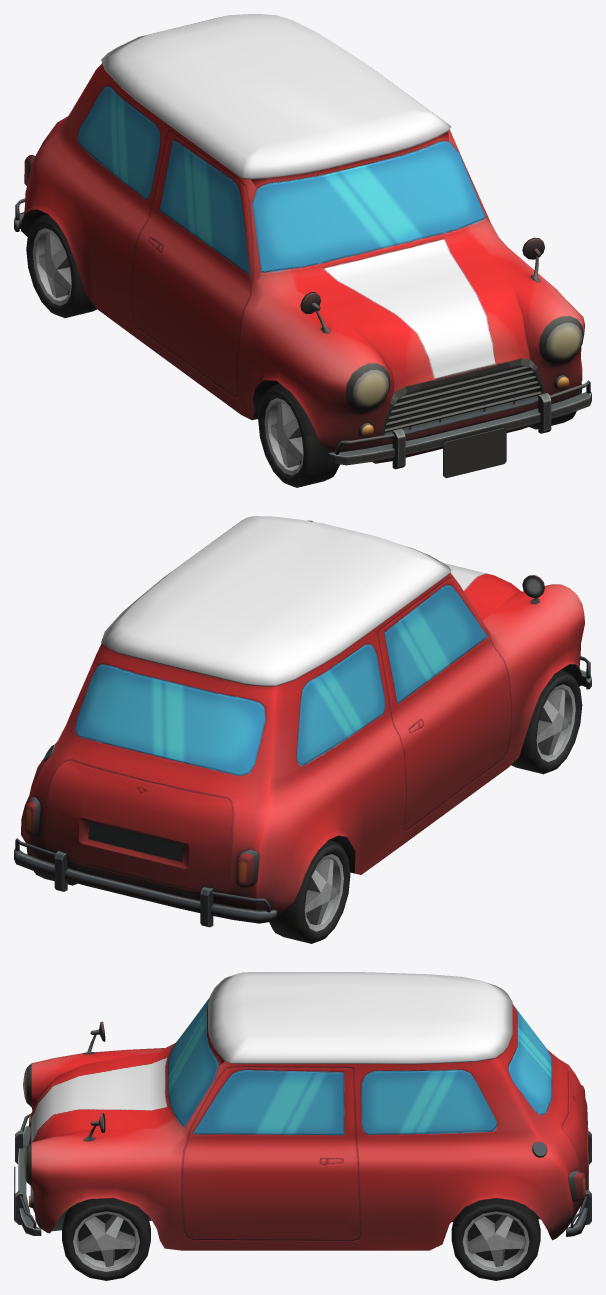
The model's file is Mini.fbx.
3 renders of one model, top to bottom at view 1: azimuth 30°, elevation 25°; view 2: azimuth 150°, elevation 25°; view 3: azimuth 270°, elevation 25°, orthographic. The views are drawn at different scales.
Visible parts, largest first — view 1: Body, FL_Wheel, RL_Wheel; view 2: Body, RL_Wheel, FL_Wheel; view 3: Body, FR_Wheel, RR_Wheel.
Boxes of the visible parts, <box> form: Body: <box>14,14,591,478</box>; FL_Wheel: <box>258,383,340,487</box>; RL_Wheel: <box>26,214,96,318</box>; Body: <box>14,516,591,927</box>; RL_Wheel: <box>269,840,350,943</box>; FL_Wheel: <box>511,670,582,774</box>; Body: <box>14,972,591,1250</box>; FR_Wheel: <box>62,1198,150,1280</box>; RR_Wheel: <box>451,1198,540,1280</box>.
Size of the model in its own units: 53.88 by 48.8 by 114.
